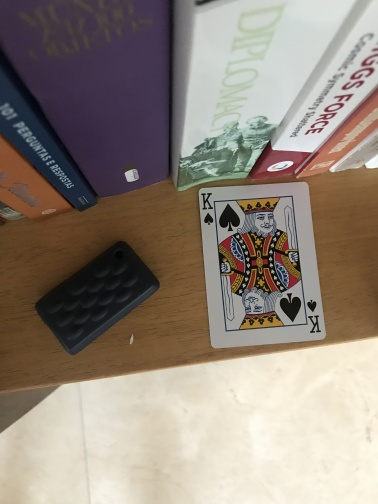king: (197, 181, 328, 349)
